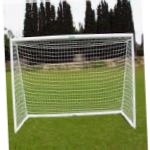goals: (8, 32, 137, 133)
